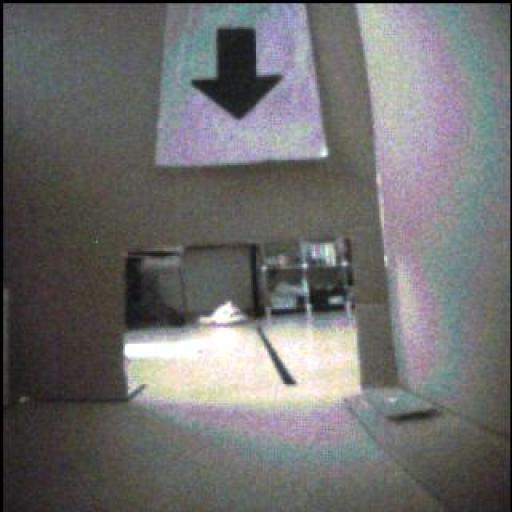arrow: (193, 30, 283, 119)
